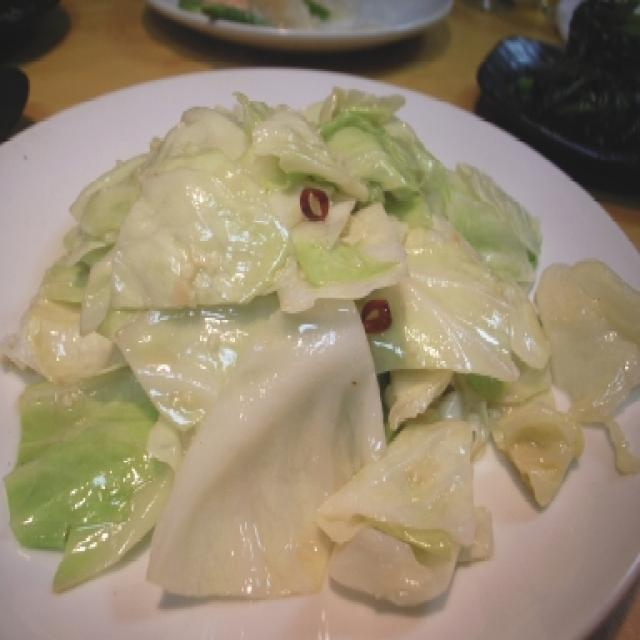蔬菜料理: (73, 135, 552, 609)
